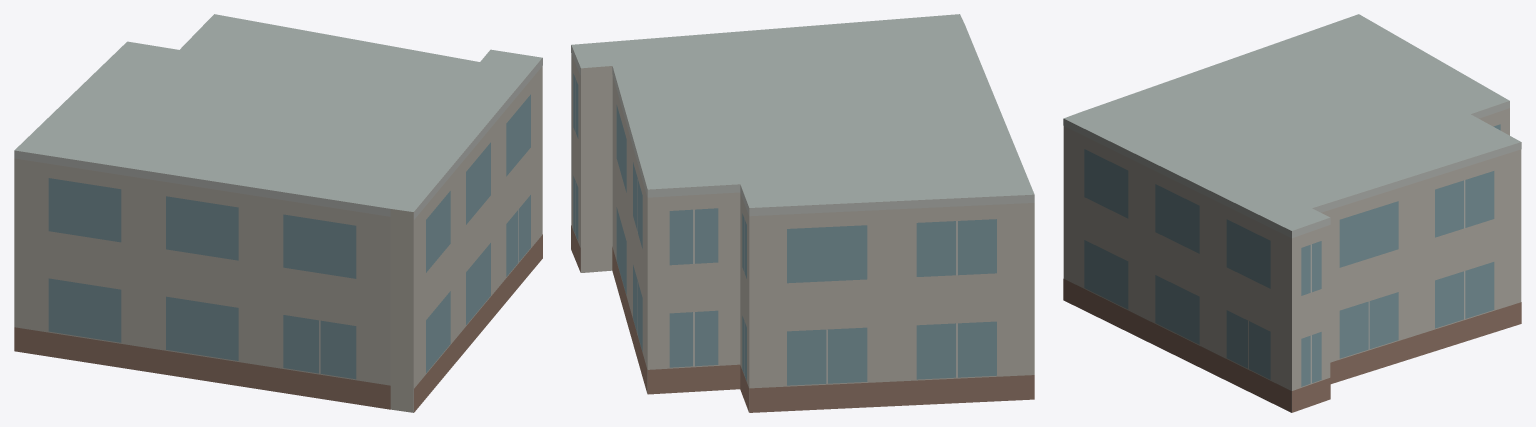
The model's file is survey-upis-32515779.glb.
3 views of the same model, side by side, from view 1: azimuth 30°, elevation 25°; view 2: azimuth 150°, elevation 25°; view 3: azimuth 270°, elevation 25° (orthographic). The views are drawn at different scales.
Visible parts, largest first — view 1: survey-upis-32515779.tmp; view 2: survey-upis-32515779.tmp; view 3: survey-upis-32515779.tmp.
Boxes of the visible parts, x1,y1,x2,y2 form: survey-upis-32515779.tmp: (14,14,542,412); survey-upis-32515779.tmp: (571,14,1034,412); survey-upis-32515779.tmp: (1063,14,1521,412).
Bounding box in the file's own units: 15.63 × 6.1 × 13.94.
